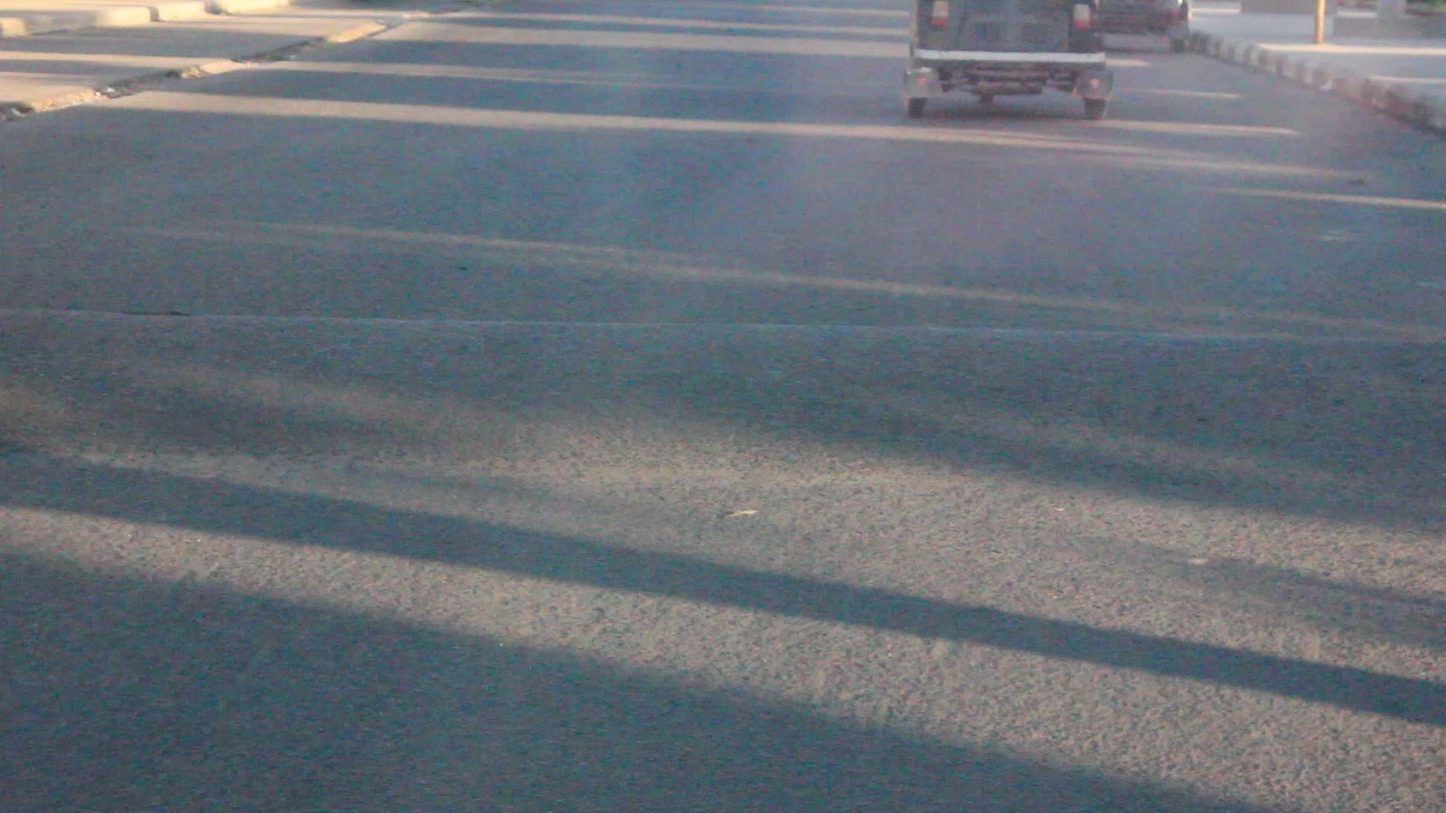Bump: (0, 322, 1446, 536)
